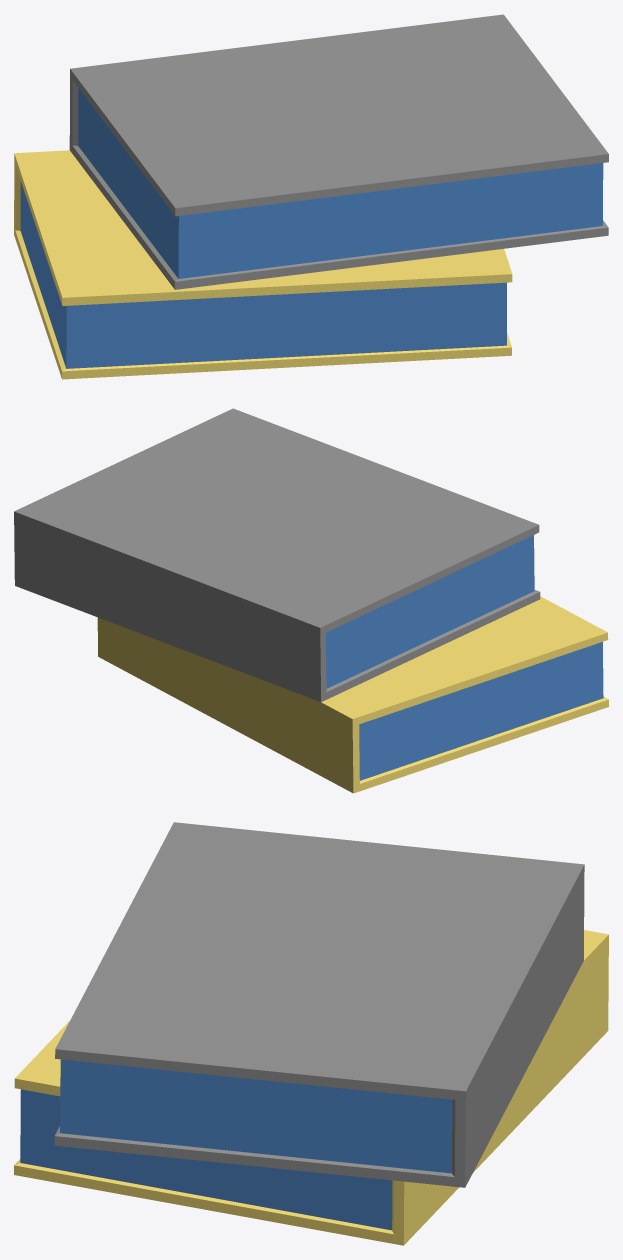
The model's file is Childroom2_Books.fbx.
3 renders of one model, top to bottom at view 1: azimuth 30°, elevation 25°; view 2: azimuth 150°, elevation 25°; view 3: azimuth 270°, elevation 25°, orthographic. The views are drawn at different scales.
Visible parts, largest first — view 1: Childroom2_Books; view 2: Childroom2_Books; view 3: Childroom2_Books.
Boxes of the visible parts, <box> form: Childroom2_Books: <box>14,14,608,379</box>; Childroom2_Books: <box>14,408,608,793</box>; Childroom2_Books: <box>14,822,608,1245</box>.
Bounding box in the file's own units: 46.92 × 13.75 × 37.16.
